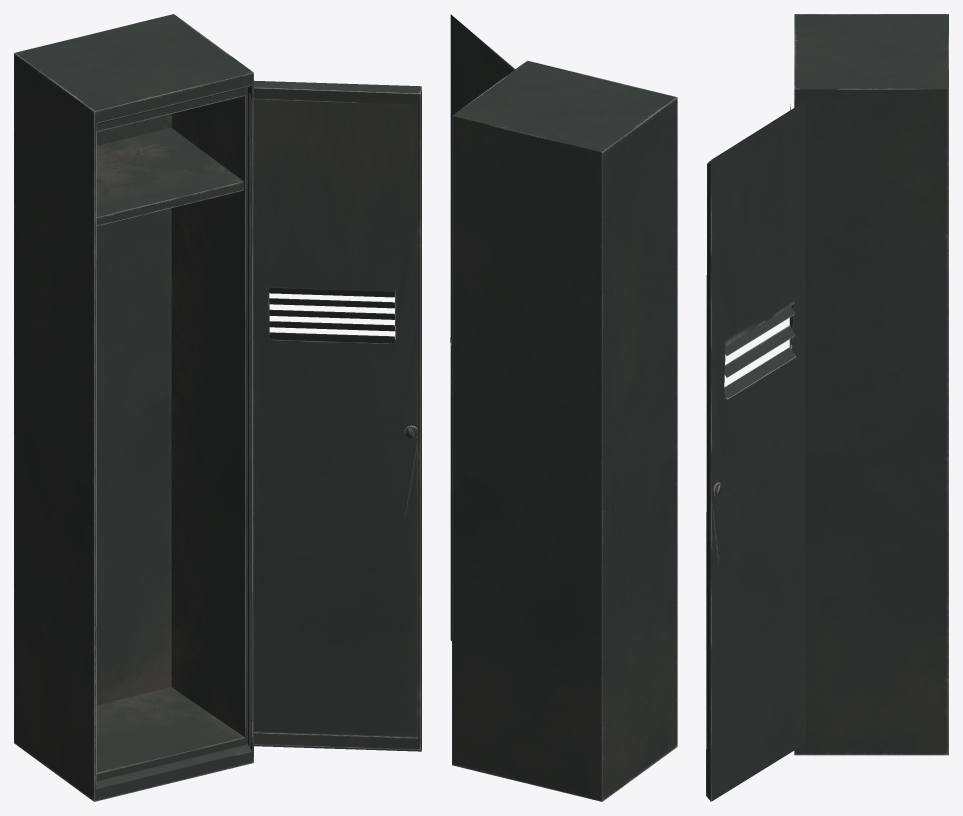
The model's file is LockerMOC.fbx.
3 renders of one model, left to right at view 1: azimuth 30°, elevation 25°; view 2: azimuth 150°, elevation 25°; view 3: azimuth 270°, elevation 25°, orthographic. The views are drawn at different scales.
Visible parts, largest first — view 1: M.O.C, M.O.C.001; view 2: M.O.C, M.O.C.001; view 3: M.O.C, M.O.C.001, M.O.C.002.
Part boxes in pixels (<box>): M.O.C: <box>14,14,253,801</box>; M.O.C.001: <box>247,80,421,751</box>; M.O.C: <box>452,60,677,801</box>; M.O.C.001: <box>450,14,515,640</box>; M.O.C: <box>789,14,948,755</box>; M.O.C.001: <box>706,101,805,801</box>; M.O.C.002: <box>724,347,795,399</box>.
Bounding box in the file's own units: 69.21 × 160 × 53.
